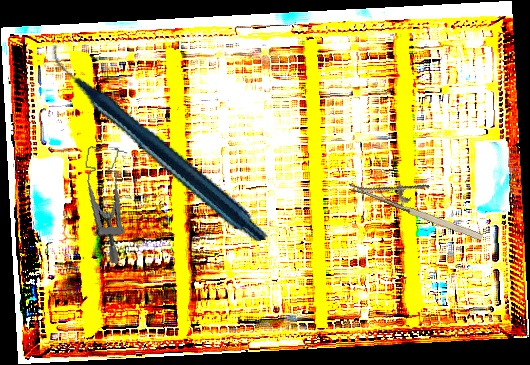Handpiece: (48, 7, 270, 278)
Needle Holder: (348, 157, 493, 245)
Speculum: (70, 143, 138, 265)
